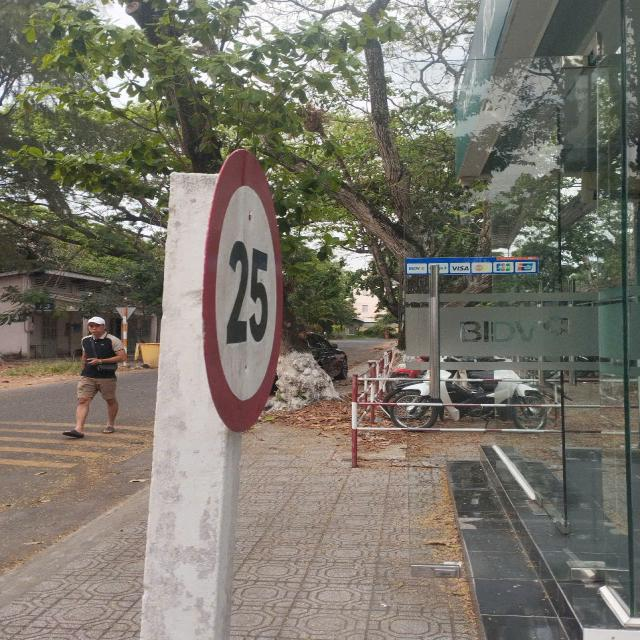Tre_Em: (198, 147, 287, 432)
